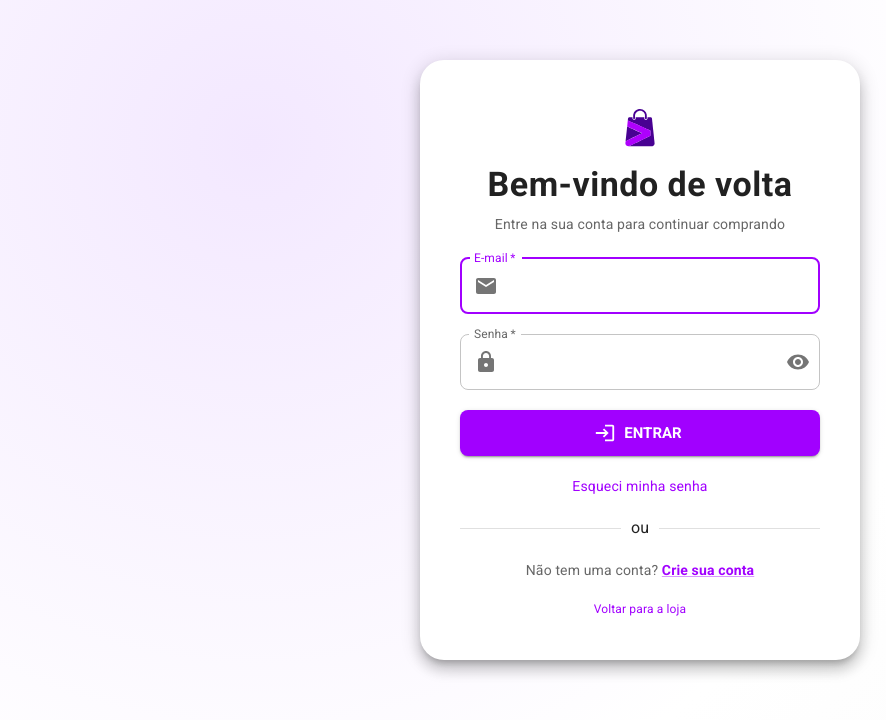
Scenario: Login › valida formato de email
Type "inv" into the field labelled "E-mail *" at (663, 286), box [506,258,820,314]
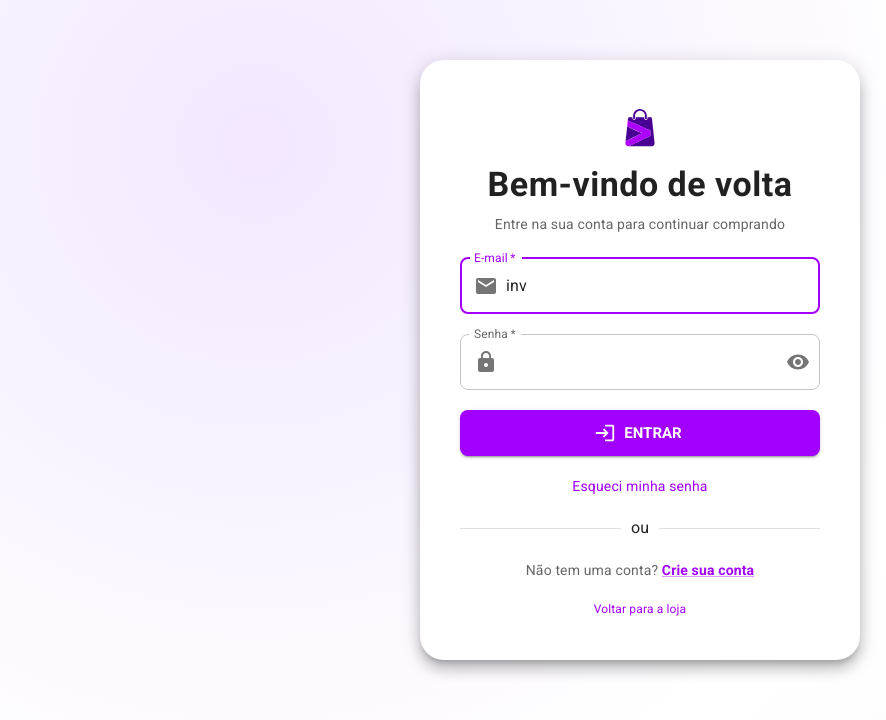
Type "12345678" into the password field labelled "Senha *" at (638, 362), box [506,334,770,390]
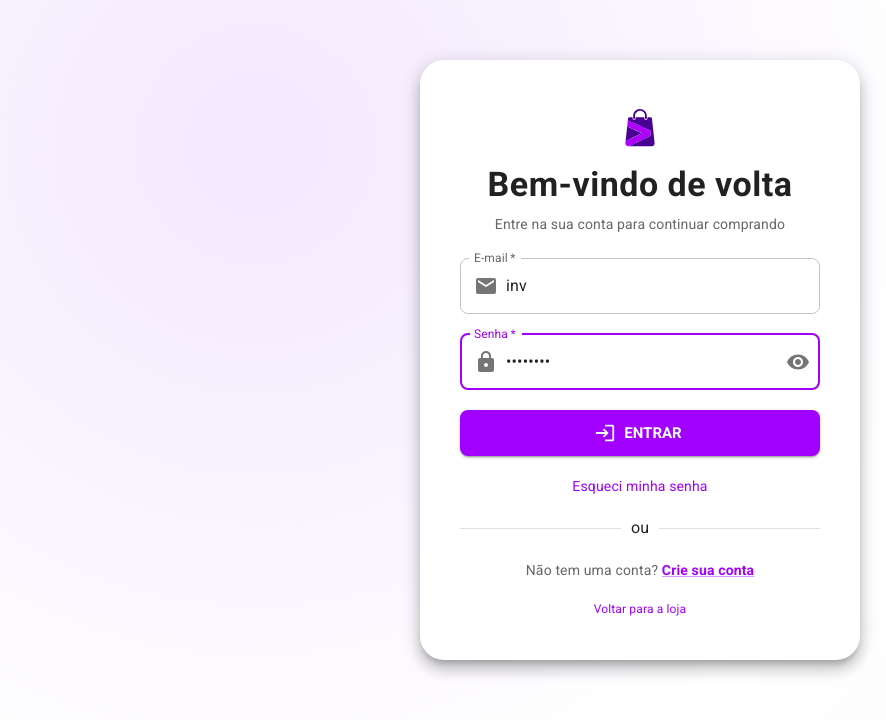
Click the button "Entrar" at (640, 433), box [460,410,820,456]
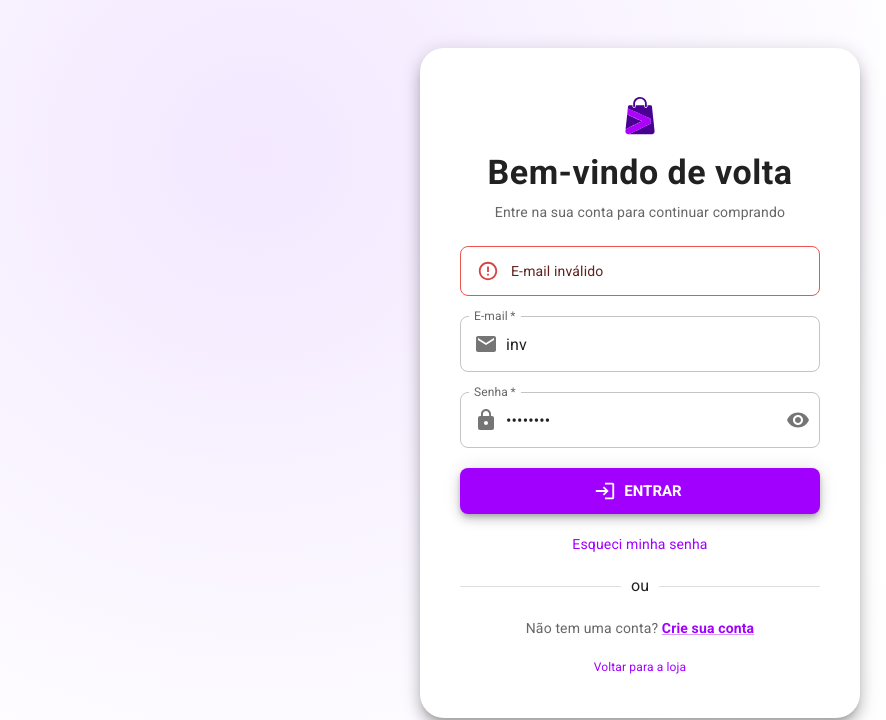
Expected: the text "E-mail inválido" is shown, [511,263,603,279]
